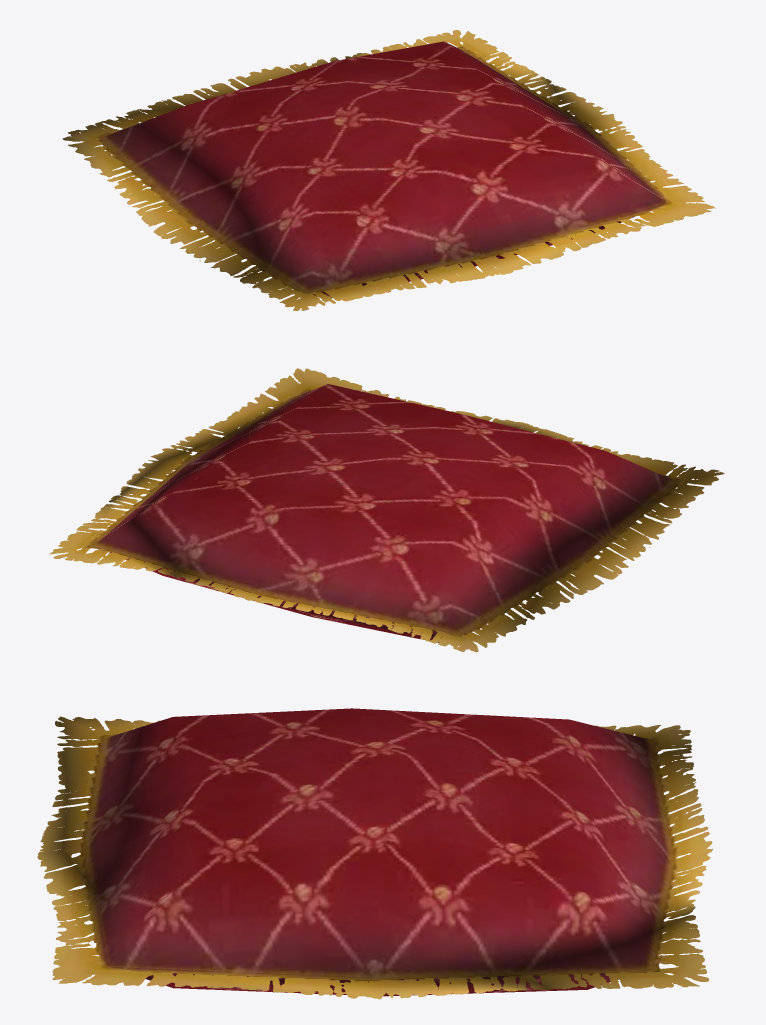
File: KM_VOB_PILLOW_01.glb
The picture shows the model from 3 angles, top to bottom: view 1: azimuth 30°, elevation 25°; view 2: azimuth 150°, elevation 25°; view 3: azimuth 270°, elevation 25°; orthographic projection. The views are drawn at different scales.
Visible parts, largest first — view 1: Mesh; view 2: Mesh; view 3: Mesh.
Part boxes in pixels (x1=…): Mesh: x1=62, y1=30, x2=715, y2=310; Mesh: x1=49, y1=368, x2=724, y2=652; Mesh: x1=37, y1=708, x2=712, y2=999.
Size of the model in its own units: 0.914 by 0.2341 by 0.896.
Materials: 1 (1 with a texture image).
